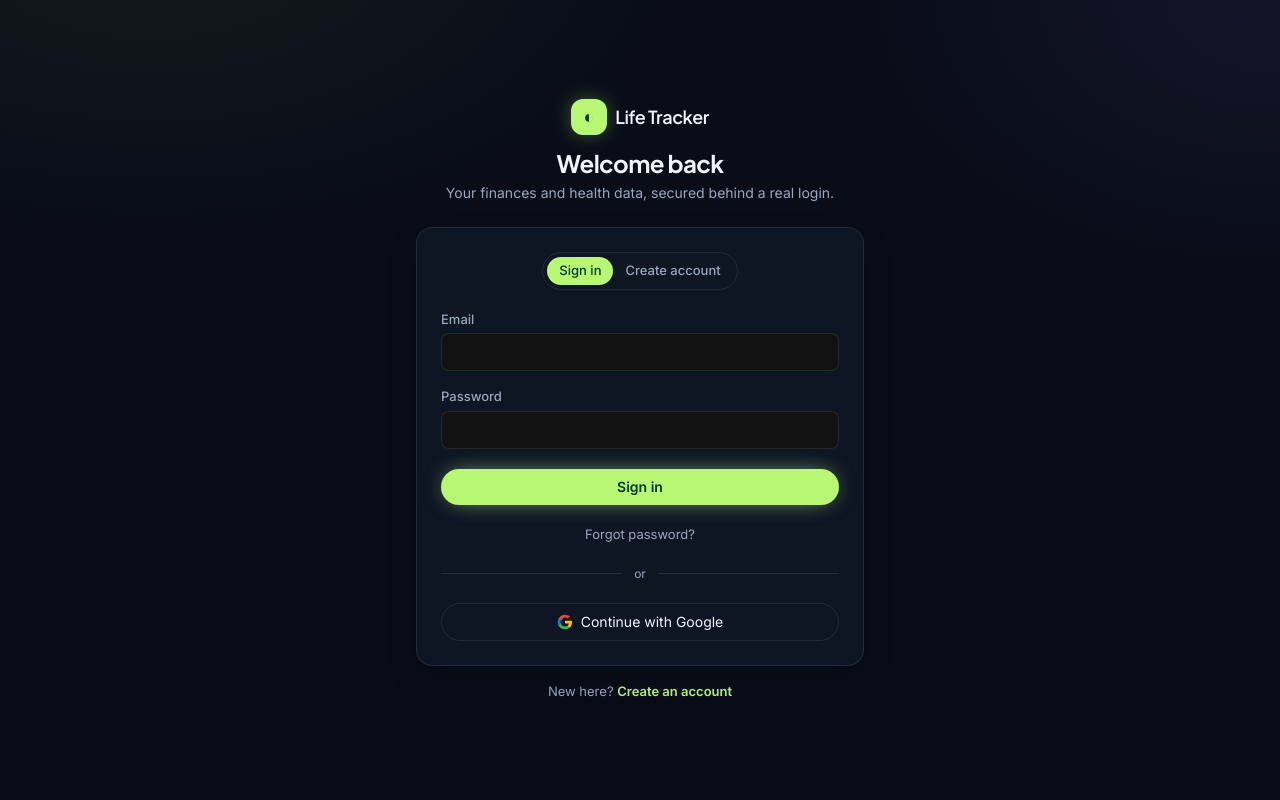
Test: Login / registration flow › requires a password of at least 10 characters
Click the radio button labelled "Create account" at {"x": 673, "y": 271}, box [614,257,733,284]
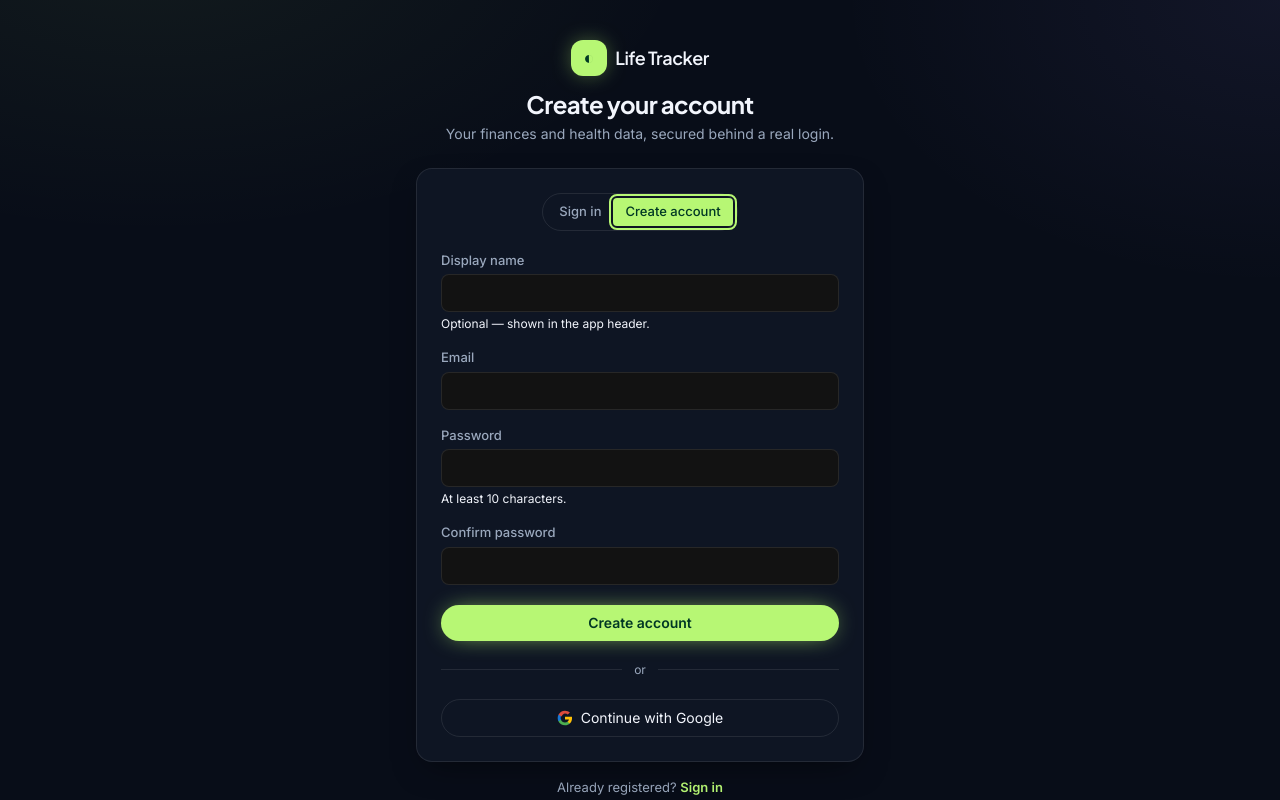
Type "new@example.com" into the field labelled "Email" at {"x": 640, "y": 390}, box [441,372,839,410]
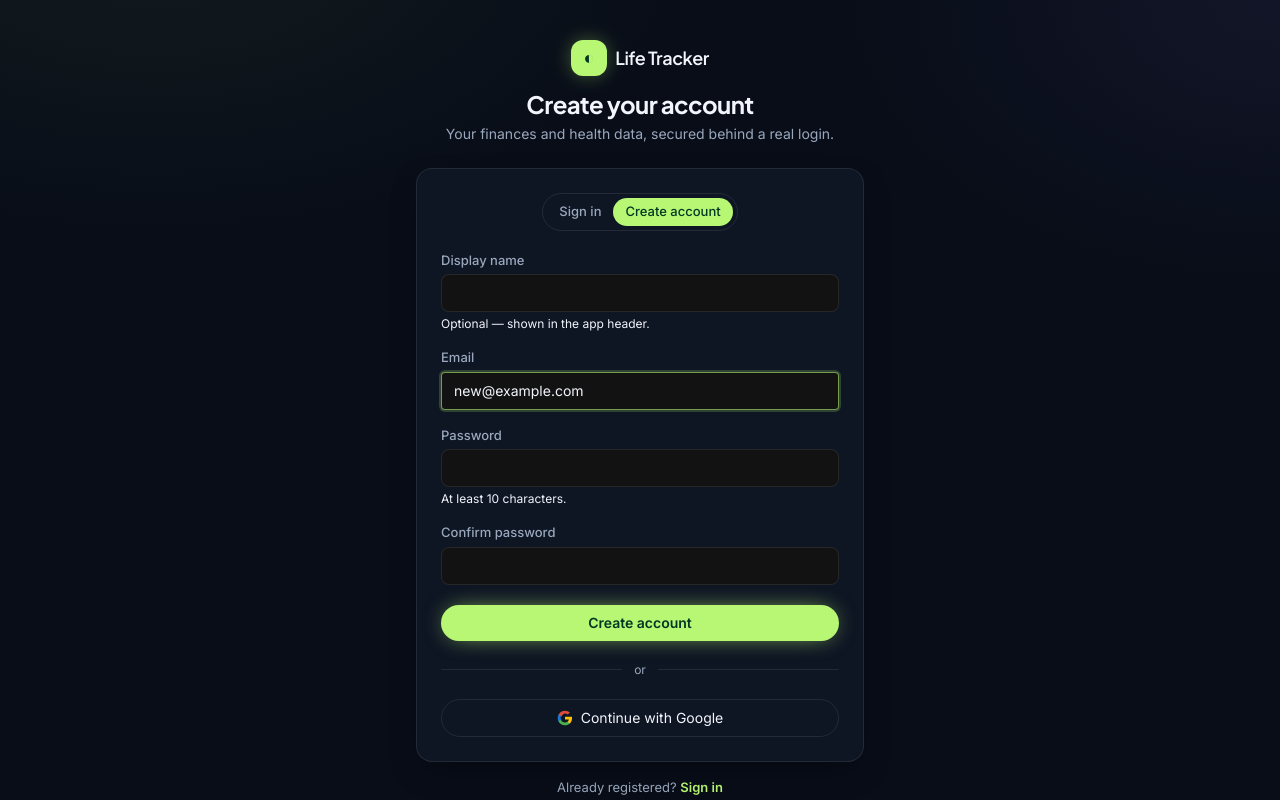
Type "short1" into the password field labelled "Password" at {"x": 640, "y": 468}, box [441,449,839,487]
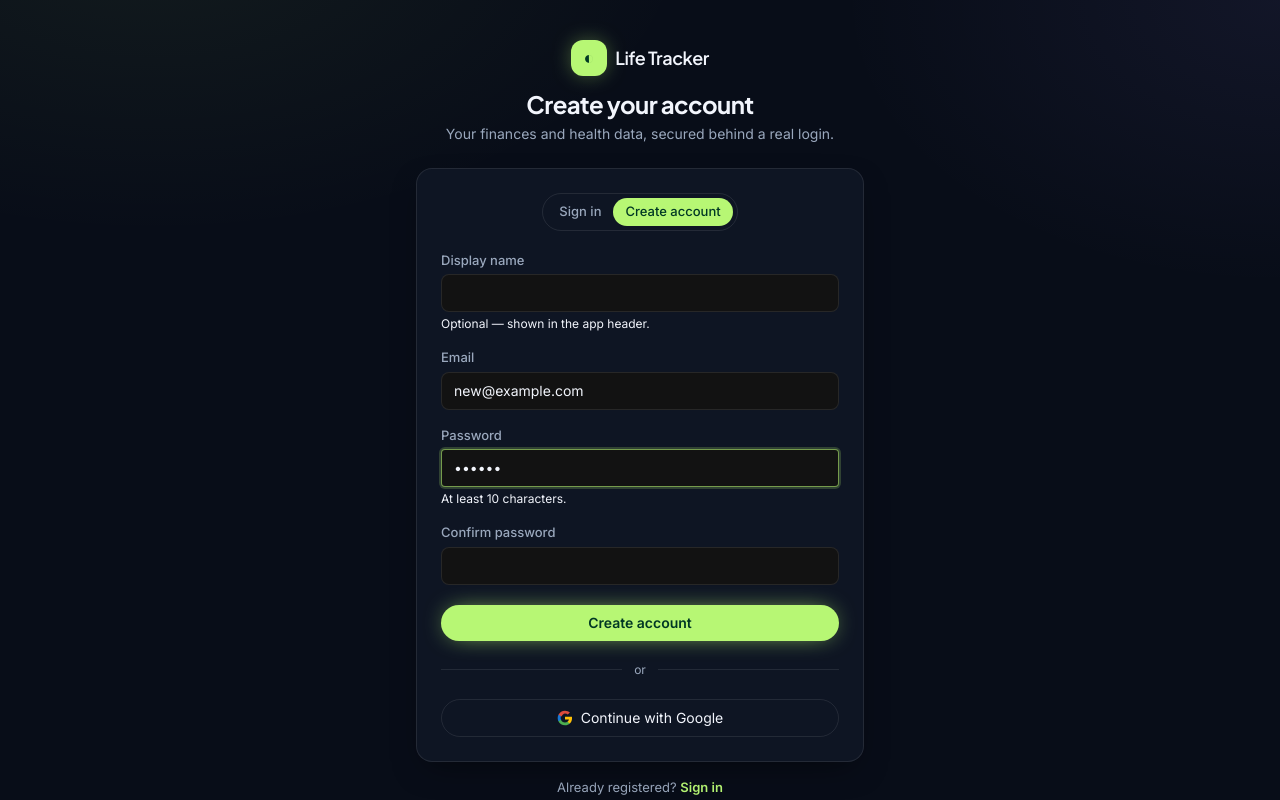
Type "short1" into the password field labelled "Confirm password" at {"x": 640, "y": 566}, box [441,546,839,584]
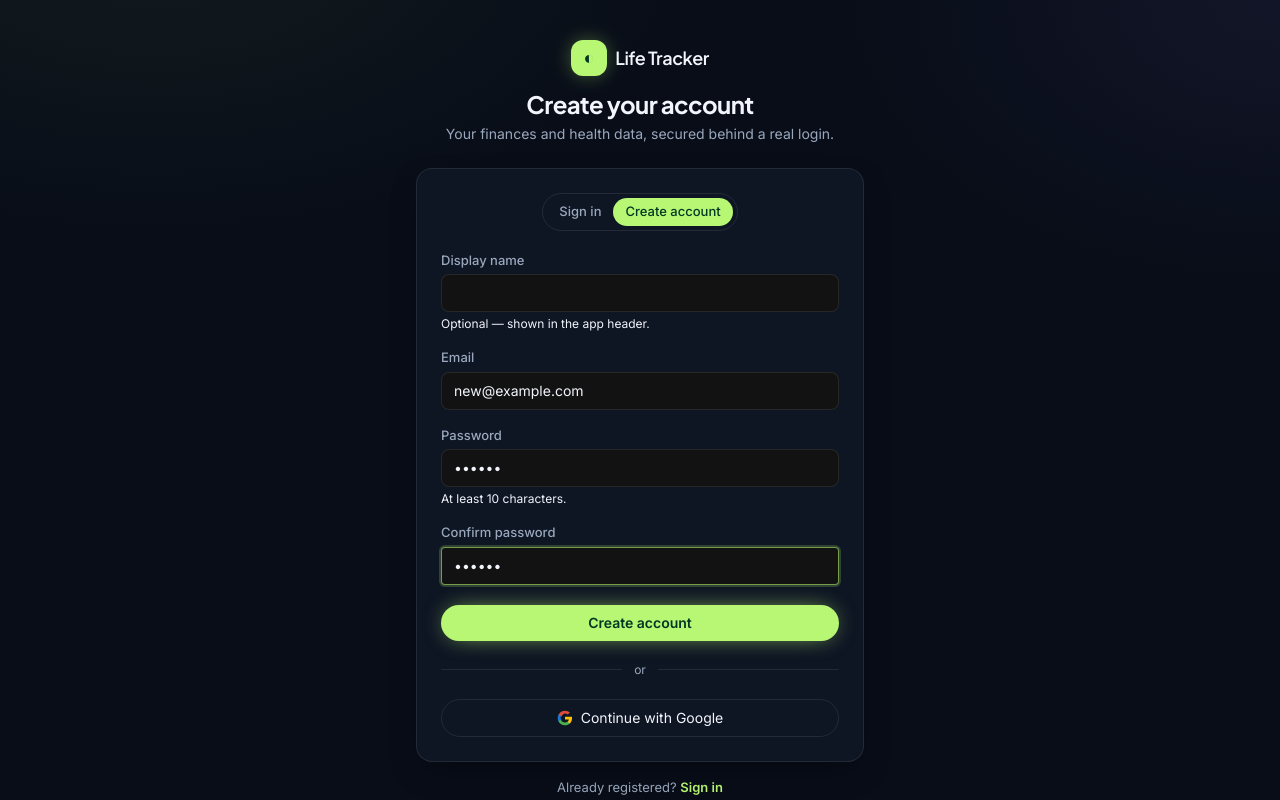
Click the button "Create account" at {"x": 640, "y": 622}, box [441,604,839,640]
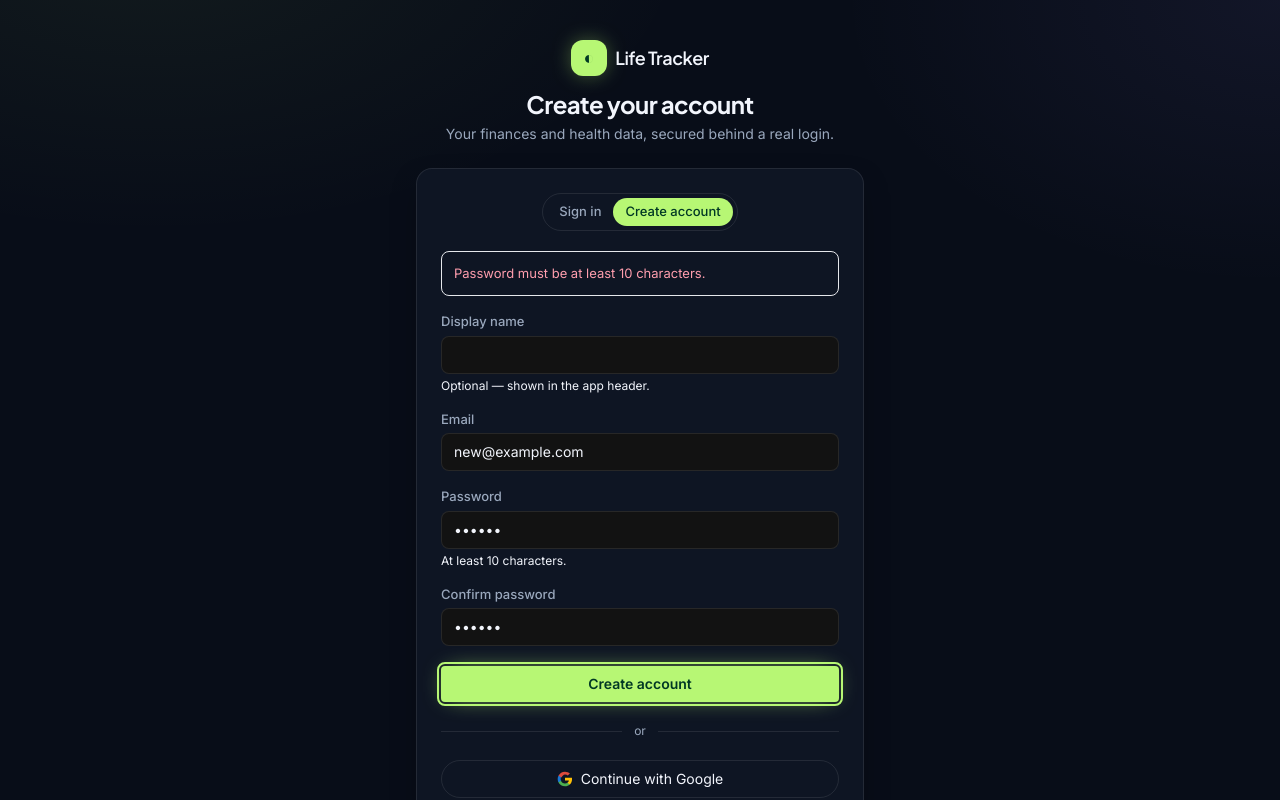
Check: the text "Password must be at least 10 characters." is shown, box [441,250,839,296]
